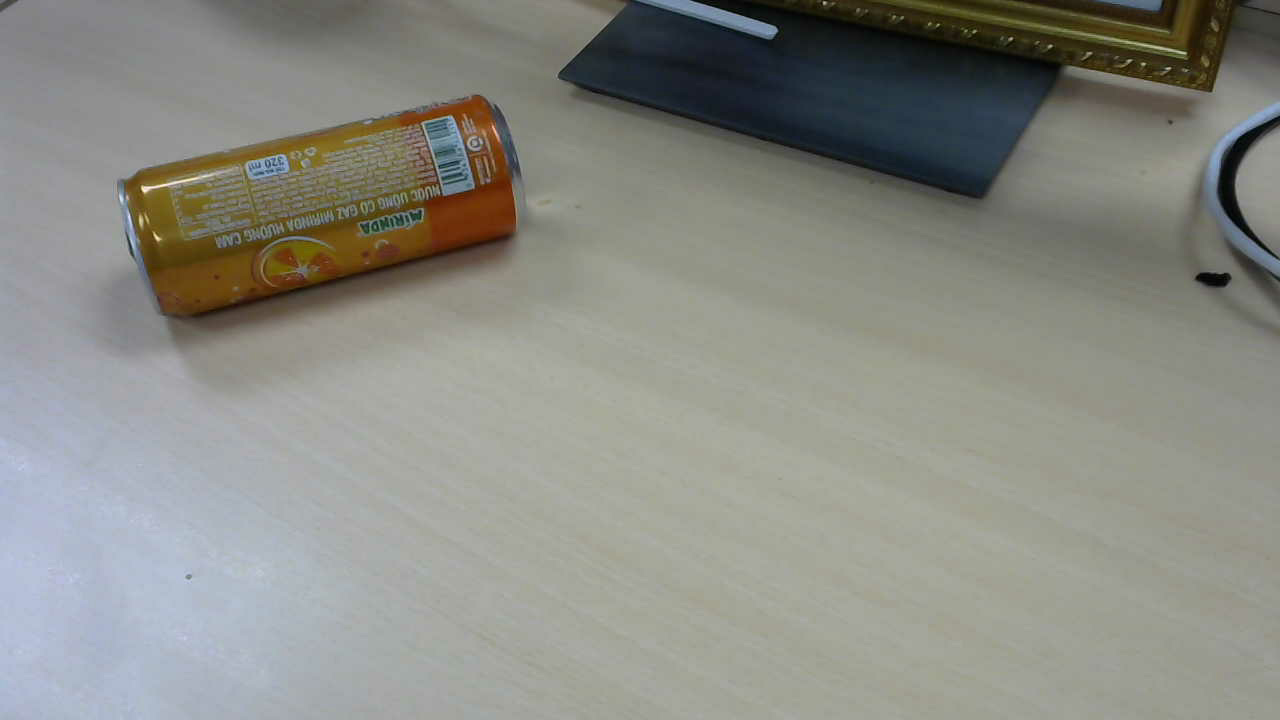Mirinda: (120, 97, 526, 324)
